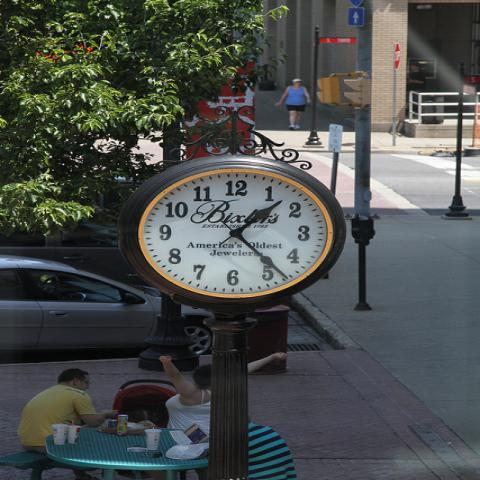car: (0, 255, 215, 354)
